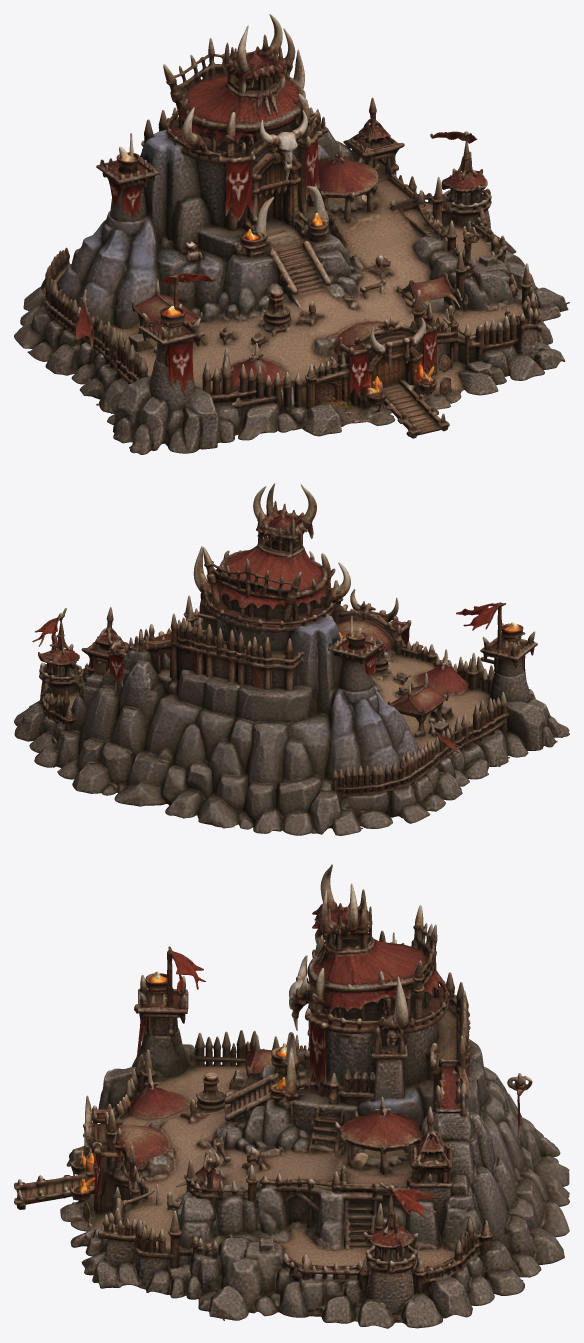
File: fort-1.glb
3 renders of one model, top to bottom at view 1: azimuth 30°, elevation 25°; view 2: azimuth 150°, elevation 25°; view 3: azimuth 270°, elevation 25°, orthographic. The views are drawn at different scales.
Parts seen in each view (by area): view 1: tripo_node_85b02662-a80c-44de-bfd4-5beeb72e276d; view 2: tripo_node_85b02662-a80c-44de-bfd4-5beeb72e276d; view 3: tripo_node_85b02662-a80c-44de-bfd4-5beeb72e276d.
Part boxes in pixels (bbox=[...]): tripo_node_85b02662-a80c-44de-bfd4-5beeb72e276d: bbox=[14, 14, 569, 454]; tripo_node_85b02662-a80c-44de-bfd4-5beeb72e276d: bbox=[14, 483, 569, 835]; tripo_node_85b02662-a80c-44de-bfd4-5beeb72e276d: bbox=[14, 864, 569, 1328].
Bounding box in the file's own units: 1 × 0.5875 × 0.9236.
Materials: 1 (1 with a texture image).
